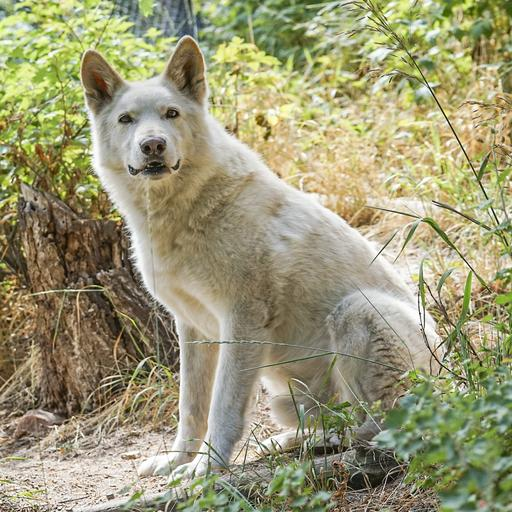Wolf: (78, 30, 475, 502)
